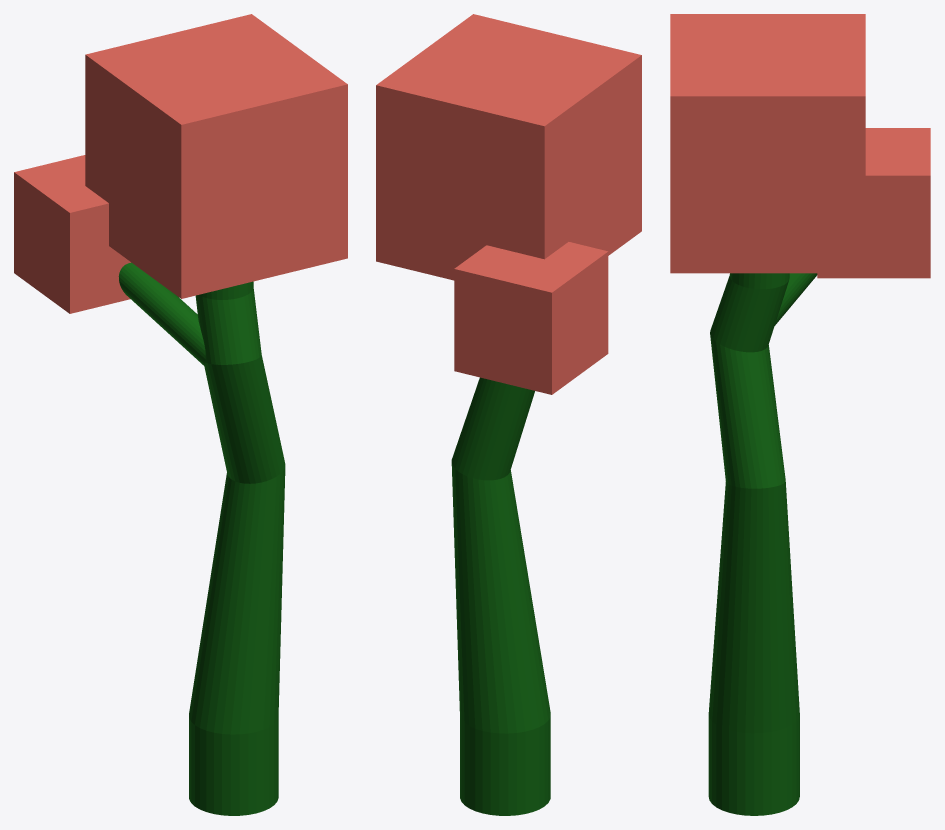
The model's file is arbol.glb.
3 views of the same model, side by side, from view 1: azimuth 30°, elevation 25°; view 2: azimuth 150°, elevation 25°; view 3: azimuth 270°, elevation 25° (orthographic).
Parts seen in each view (by area): view 1: Cylinder; view 2: Cylinder; view 3: Cylinder.
Boxes of the visible parts, x1,y1,x2,y2 form: Cylinder: (14, 14, 347, 815); Cylinder: (376, 14, 641, 815); Cylinder: (670, 14, 930, 815).
Size of the model in its own units: 14.03 by 47.28 by 15.13.
